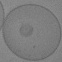small: (20, 24, 34, 37)
